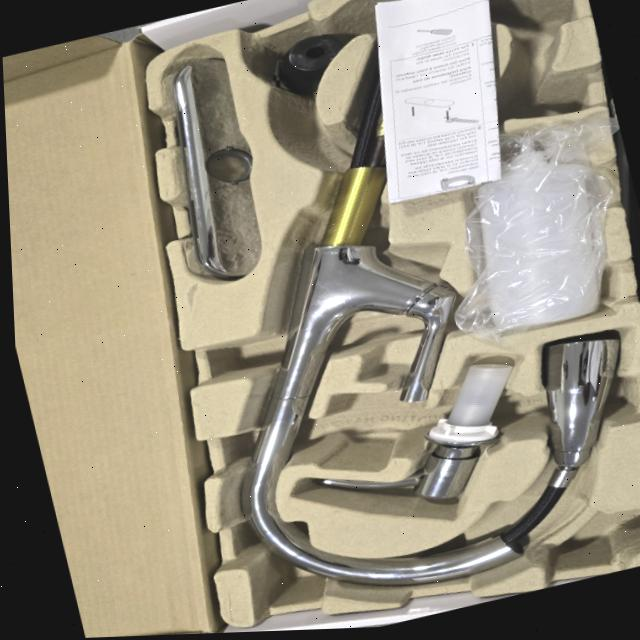1o: (236, 0, 617, 584)
2: (319, 362, 510, 498)
3: (471, 132, 594, 334)
4: (170, 58, 259, 275)
5: (268, 35, 339, 94)
6m: (460, 0, 576, 47)
7m: (437, 56, 593, 146)
8: (371, 0, 501, 201)
